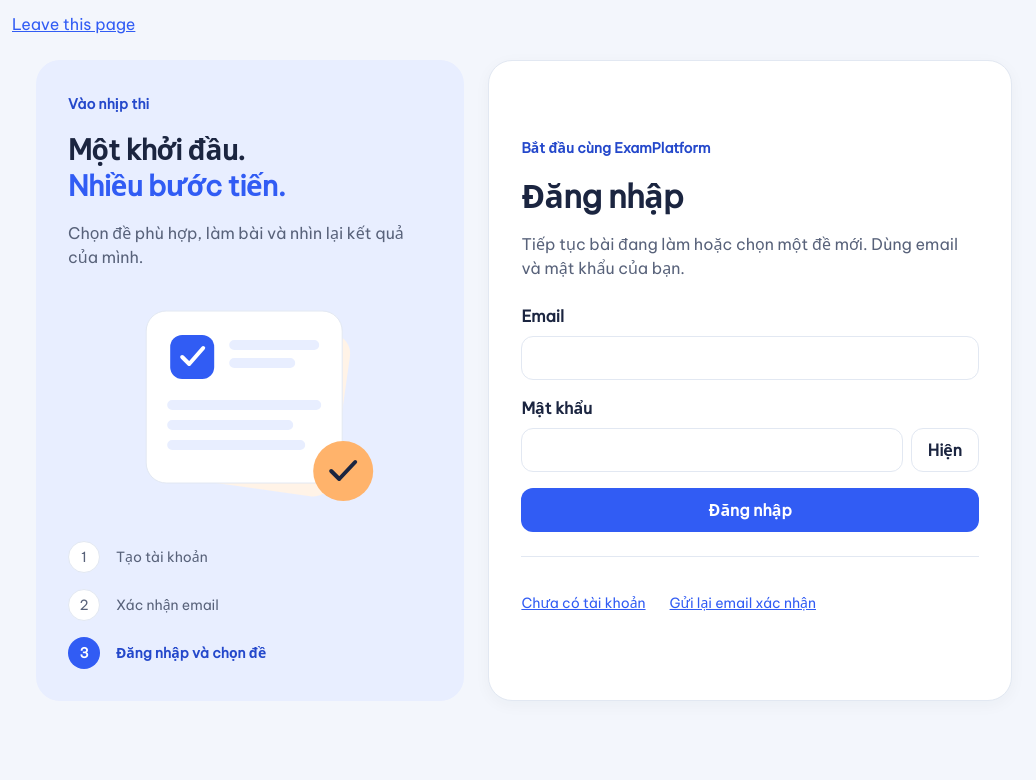
Scenario: identity request and session fences › retries only the profile read after acknowledged login and a failed profile read
This screenshot has width=1036, height=780.
Type "person@example.test" into the field labelled "Email" at [750, 358], box [521,336,979,380]
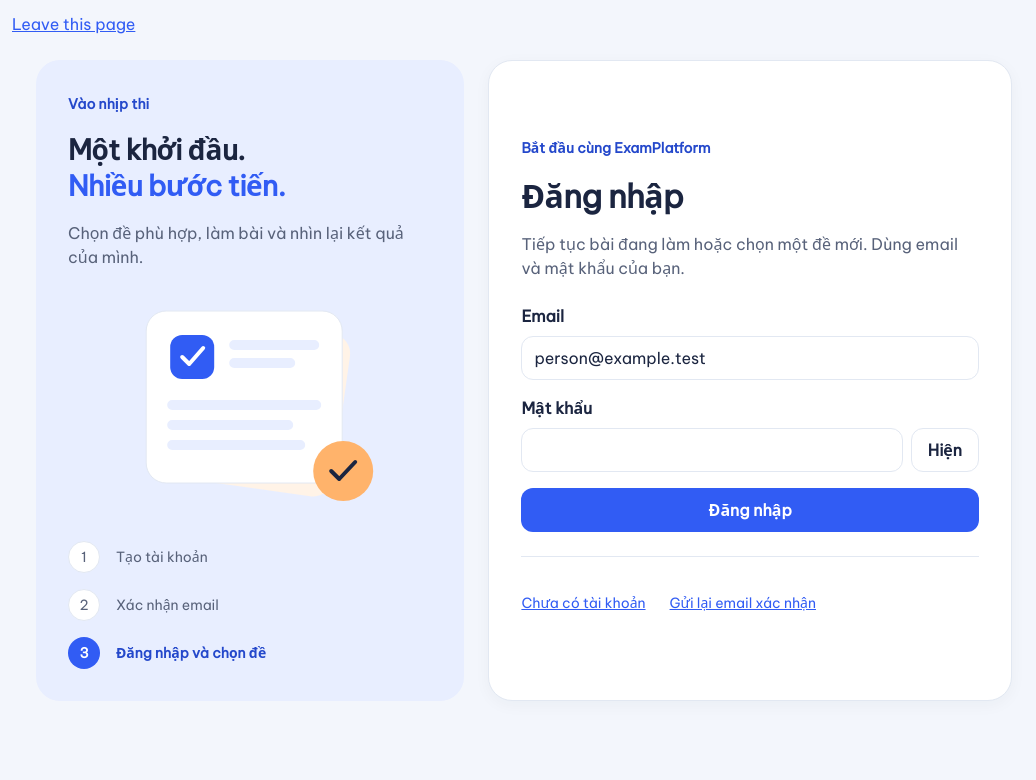
Type "fixture-password-ok" into the password field labelled "Mật khẩu" at [712, 450], box [521,428,903,472]
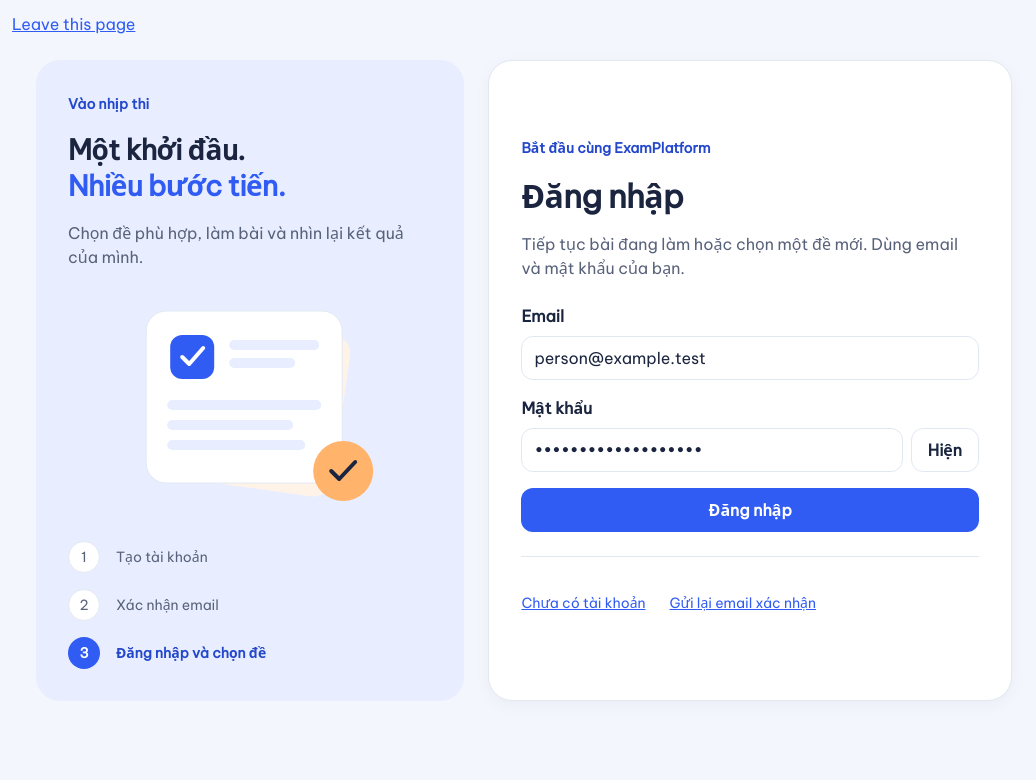
Click the button "Đăng nhập" at [750, 510], box [521,488,979,532]
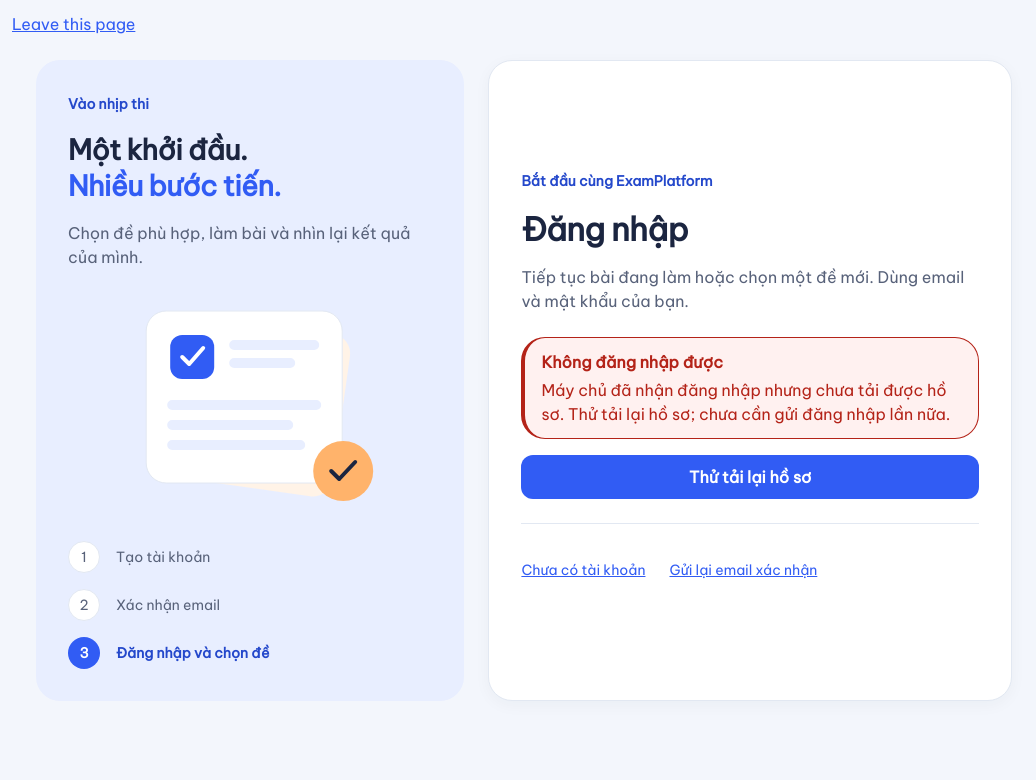
Click the button "Thử tải lại hồ sơ" at [750, 477], box [521,455,979,499]
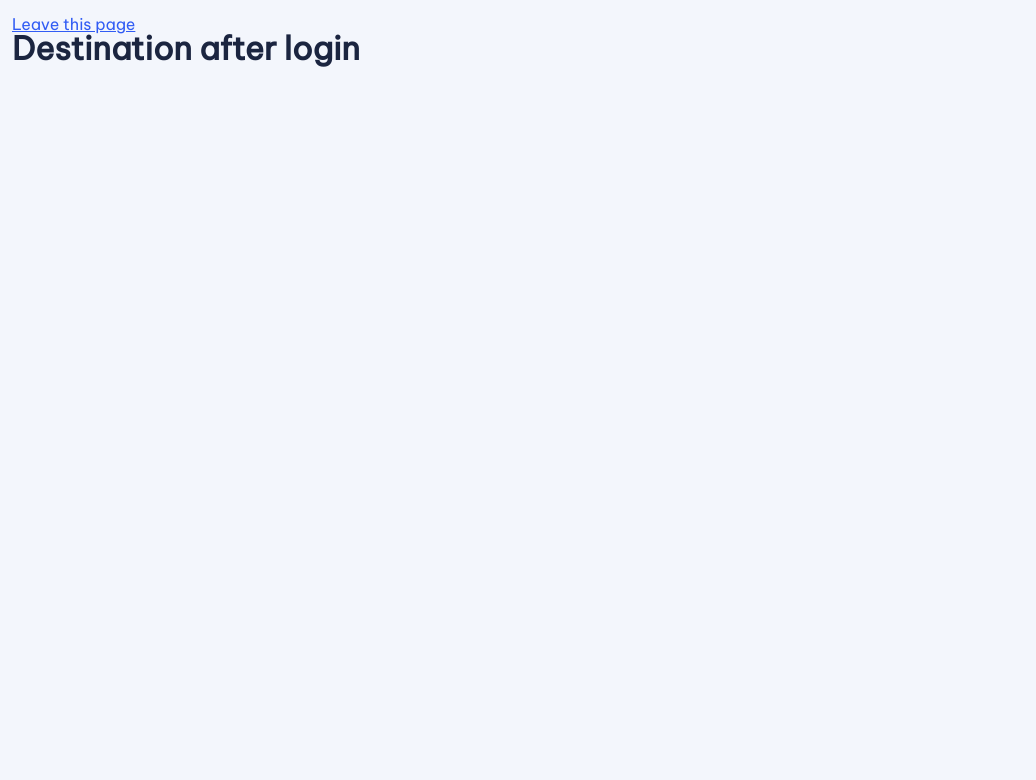
Expected: the heading "Destination after login" is shown, [12,28,360,68]
